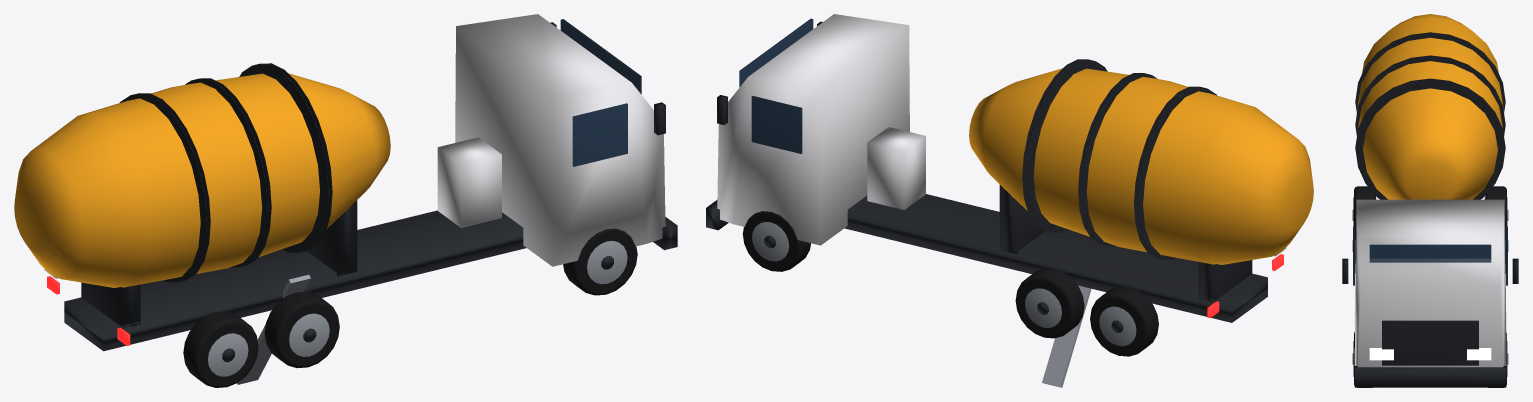
The model's file is mixer.glb.
3 views of the same model, side by side, from view 1: azimuth 30°, elevation 25°; view 2: azimuth 150°, elevation 25°; view 3: azimuth 270°, elevation 25° (orthographic). The views are drawn at different scales.
Visible parts, largest first — view 1: body, drum, wheel_2r, wheel_1r, wheel_0r, fin; view 2: body, drum, wheel_1l, wheel_2l, wheel_0l, fin; view 3: body, drum, wheel_2l, wheel_2r.
Part boxes in pixels (x1,y1,x2,y2): body: [44, 14, 677, 351]; drum: [14, 63, 390, 287]; wheel_2r: [183, 311, 258, 387]; wheel_1r: [264, 291, 339, 367]; wheel_0r: [563, 228, 637, 295]; fin: [237, 274, 310, 384]; body: [706, 14, 1286, 322]; drum: [969, 59, 1313, 264]; wheel_1l: [1015, 268, 1084, 338]; wheel_2l: [1090, 286, 1158, 356]; wheel_0l: [742, 211, 810, 271]; fin: [1042, 285, 1091, 387]; body: [1342, 199, 1518, 387]; drum: [1355, 14, 1505, 199]; wheel_2l: [1484, 186, 1508, 226]; wheel_2r: [1352, 186, 1376, 226].
Bounding box in the file's own units: 88.5 × 46.43 × 29.
